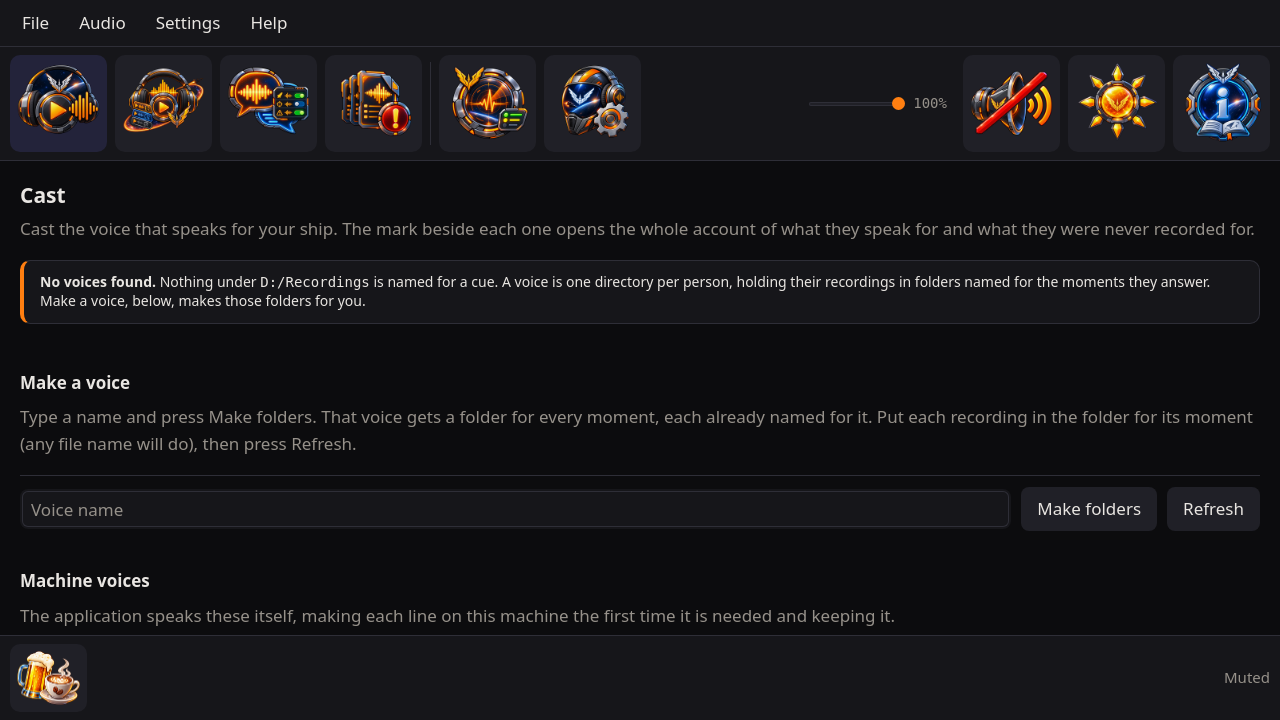
the menu bar › reaches missing takes from Audio, on the cast voice
Expected: the button named "Unmute" is shown, top-left (963, 55), bottom-right (1060, 152)
Step 1. Click the button "Audio" → (102, 23), box top-left (65, 4), bottom-right (140, 42)
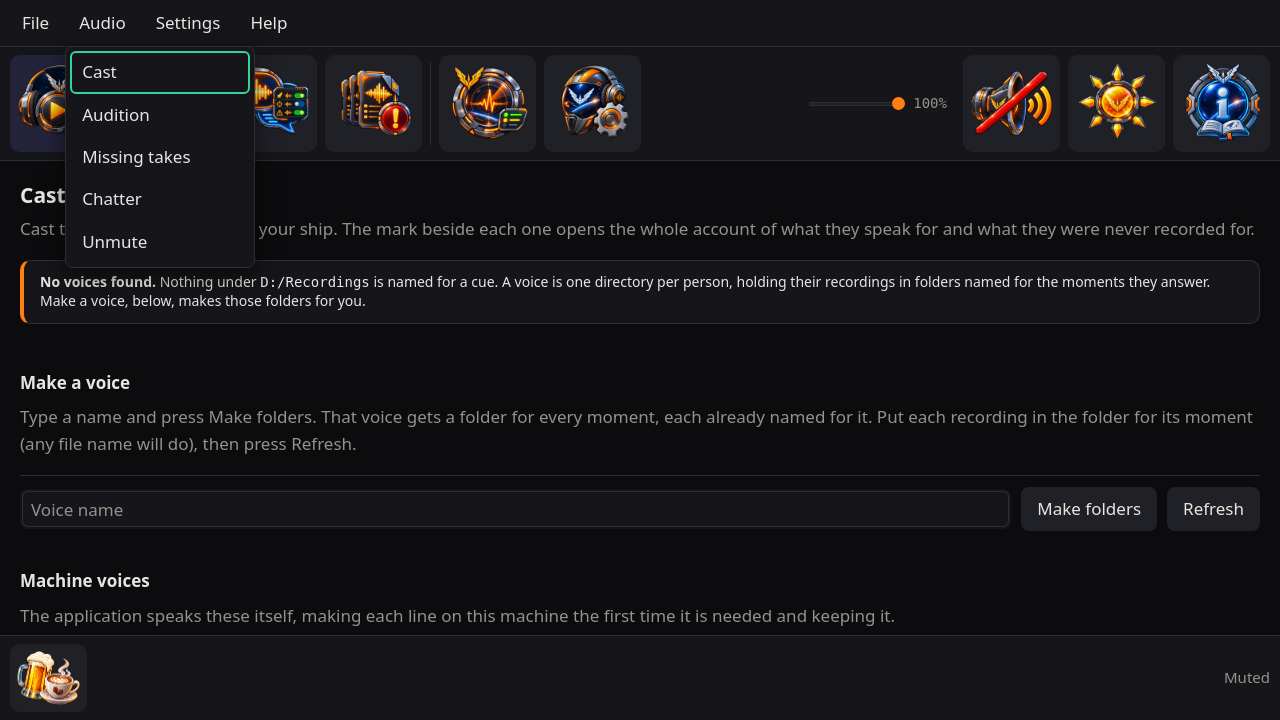
Step 2. Click the button "Missing takes" → (160, 157), box top-left (70, 136), bottom-right (250, 178)
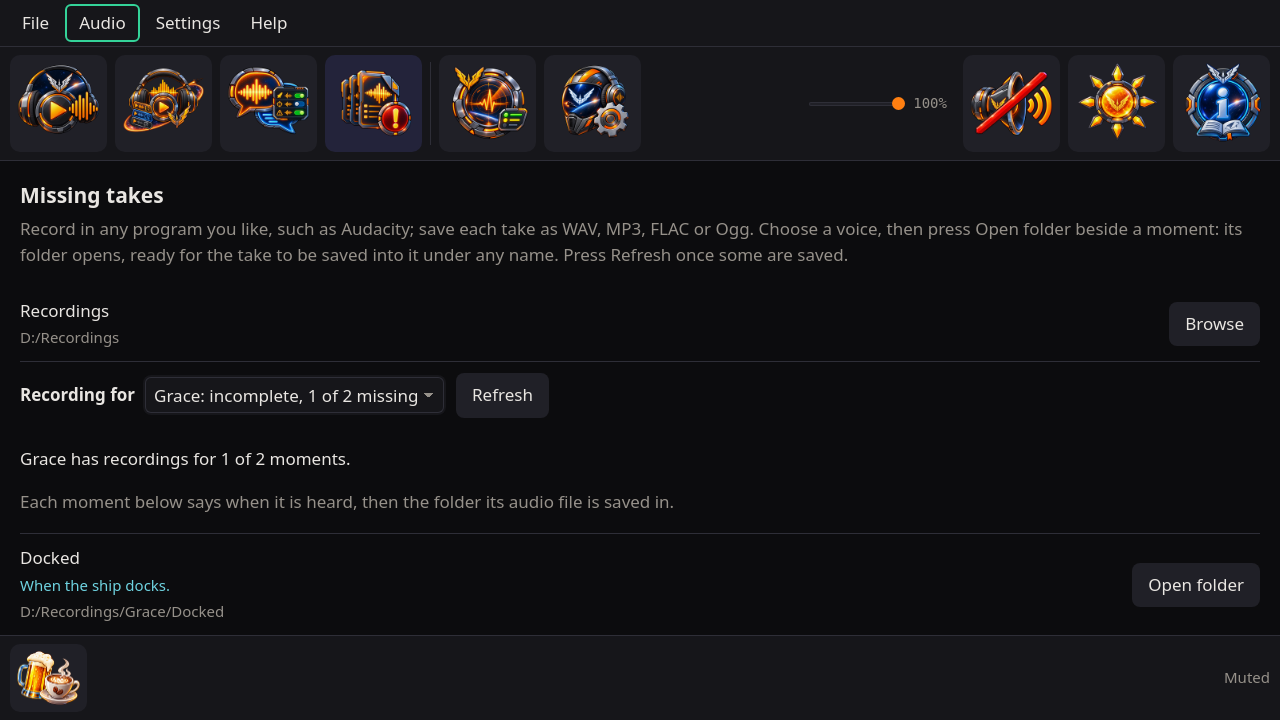
Now the heading "Missing takes" is shown, box top-left (20, 181), bottom-right (164, 209)
Now the text "Grace has recordings for 1 of 2 moments." is shown, box top-left (20, 447), bottom-right (351, 470)
Now the text "D:/Recordings" is shown, box top-left (20, 327), bottom-right (119, 347)
